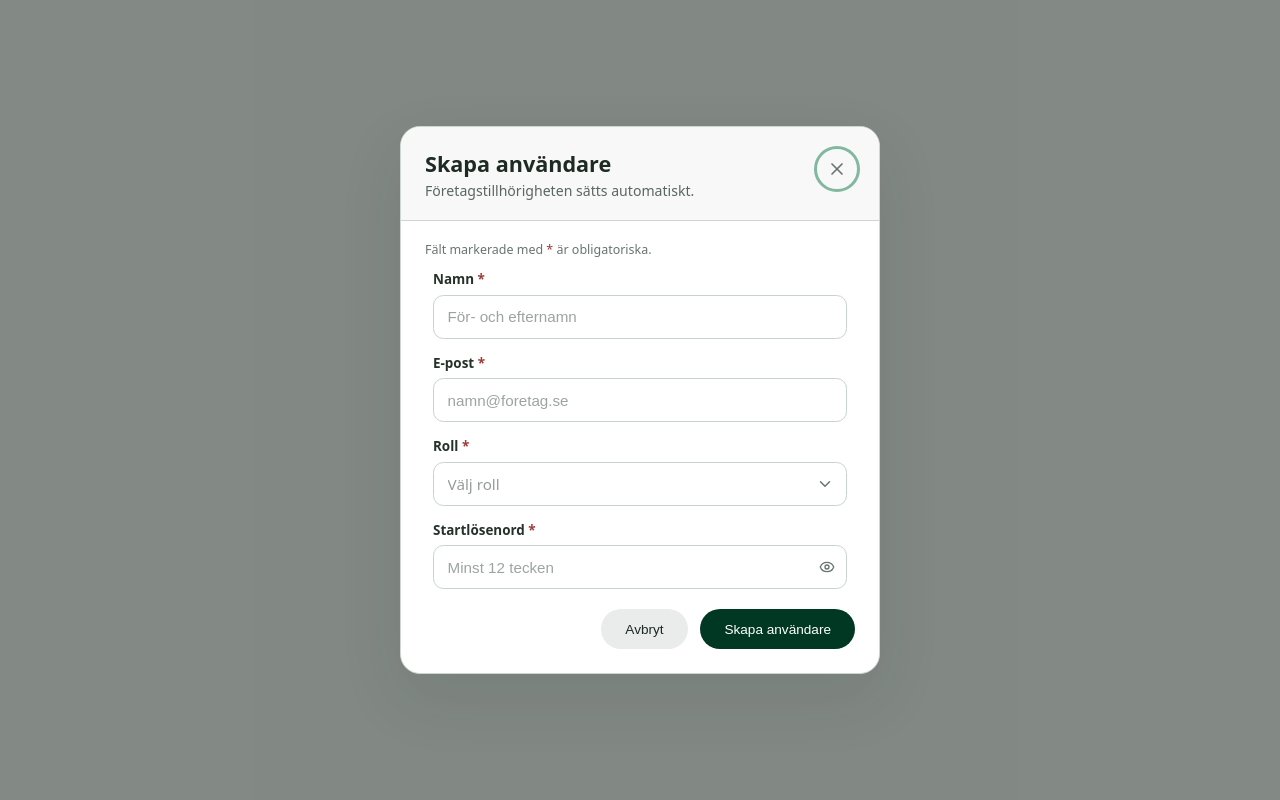
Test: CreateUserModal › shows the backend error for a duplicate email at the email field
The image size is (1280, 800).
Type "Kalle Kula" into the field labelled "Namn *" at coordinates (640, 317), box [433,295,847,339]
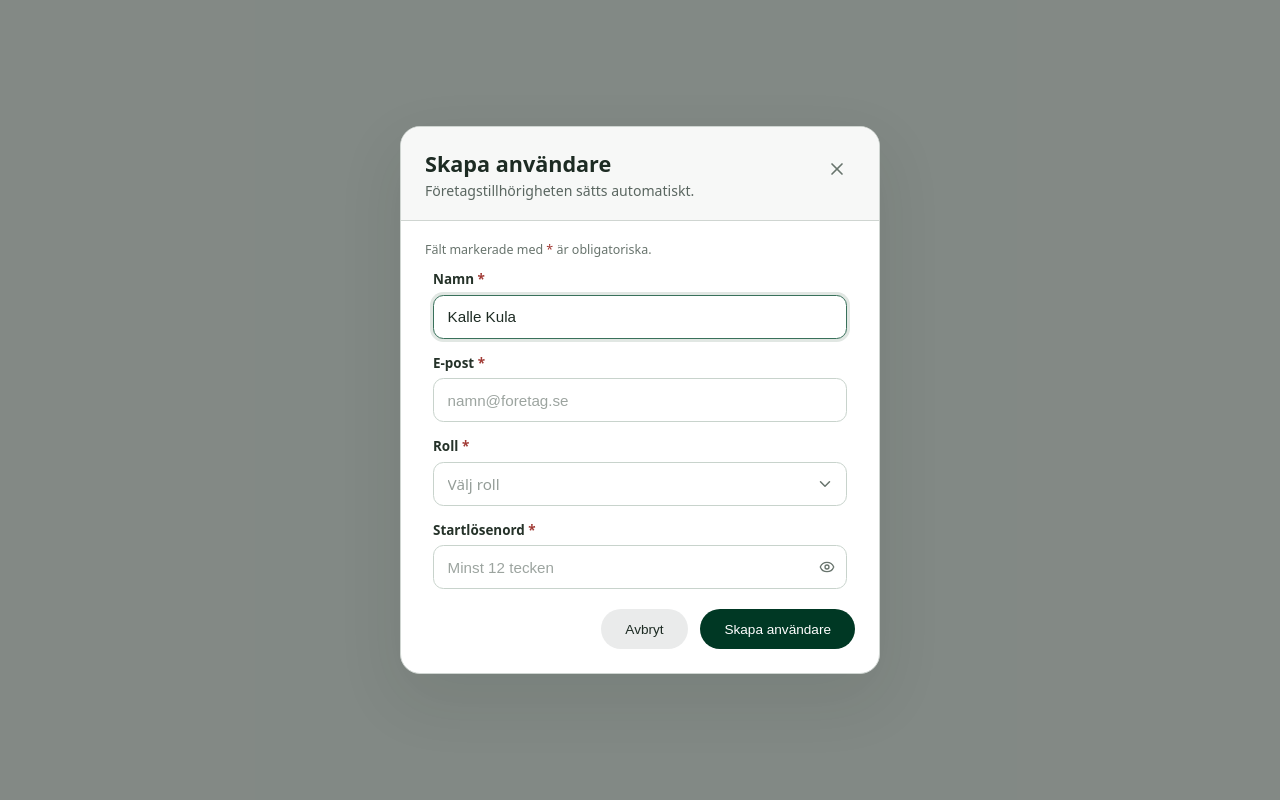
Type "kalle@foretag.se" into the field labelled "E-post *" at coordinates (640, 400), box [433,378,847,422]
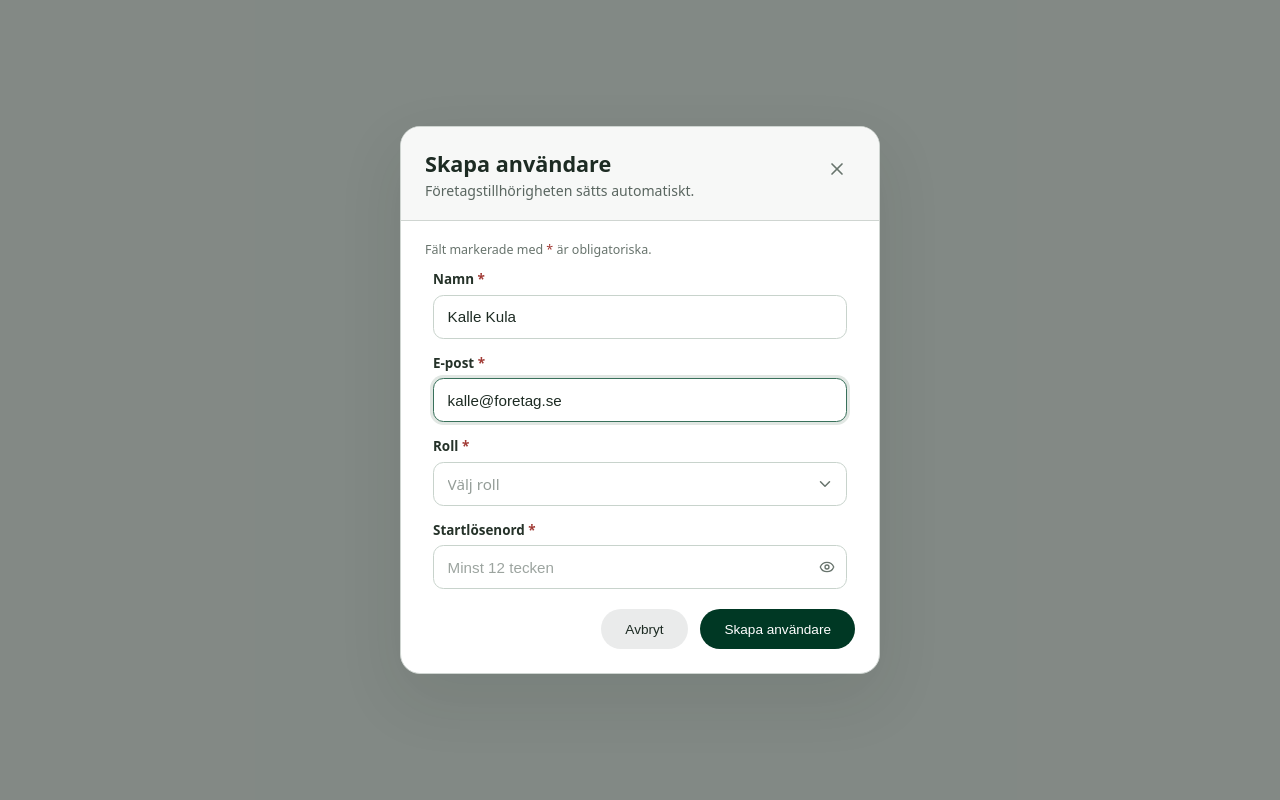
Click the dropdown labelled "Välj roll" at coordinates (474, 484), box [433,462,847,506]
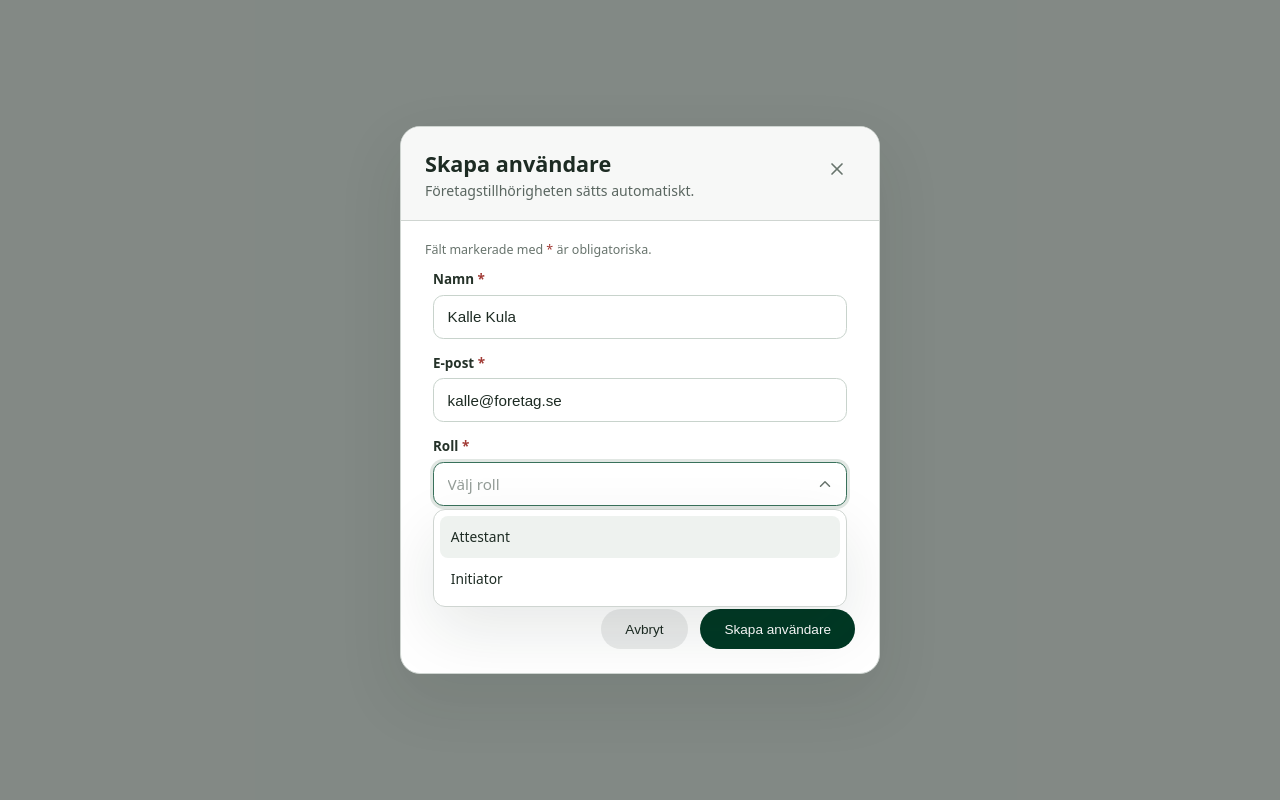
Click the option "Initiator" at coordinates (477, 578), box [451,569,503,588]
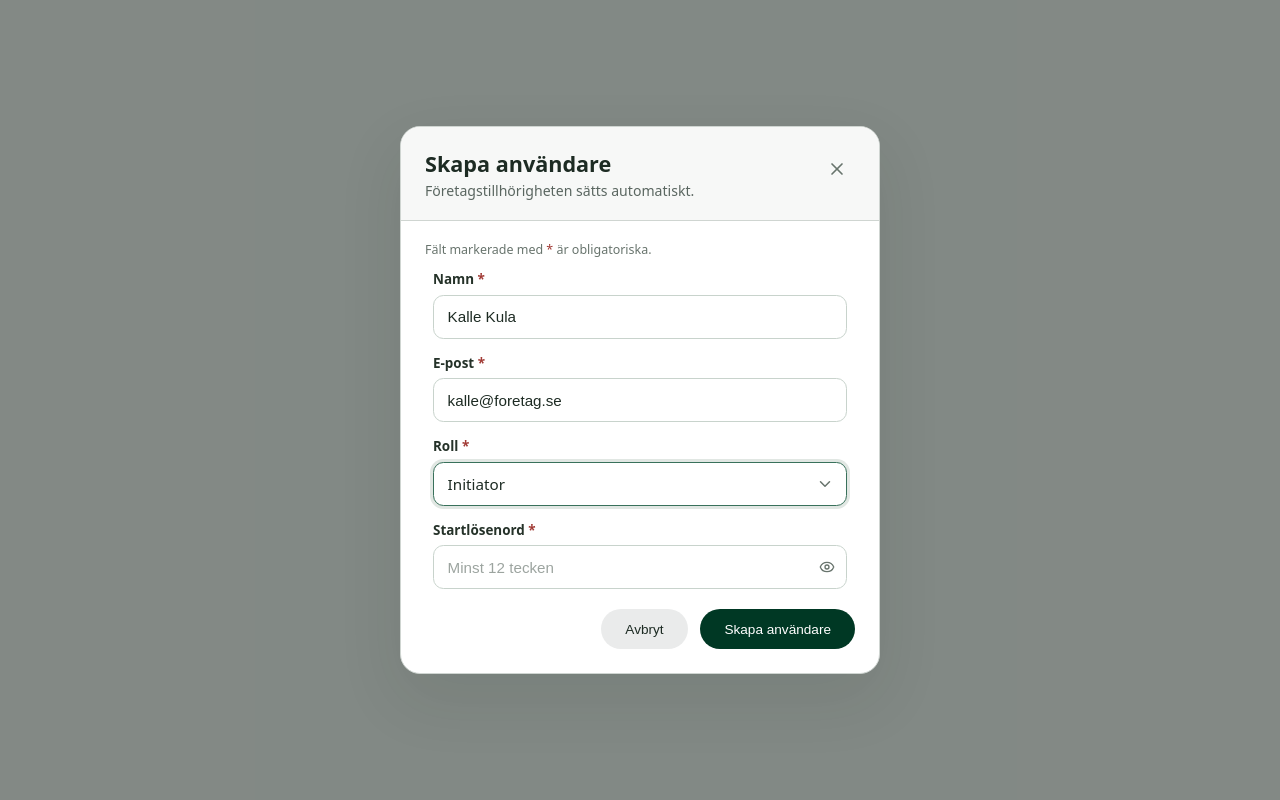
Type "hemligt-lösen-123" into the password field labelled "Startlösenord *" at coordinates (640, 567), box [433,545,847,589]
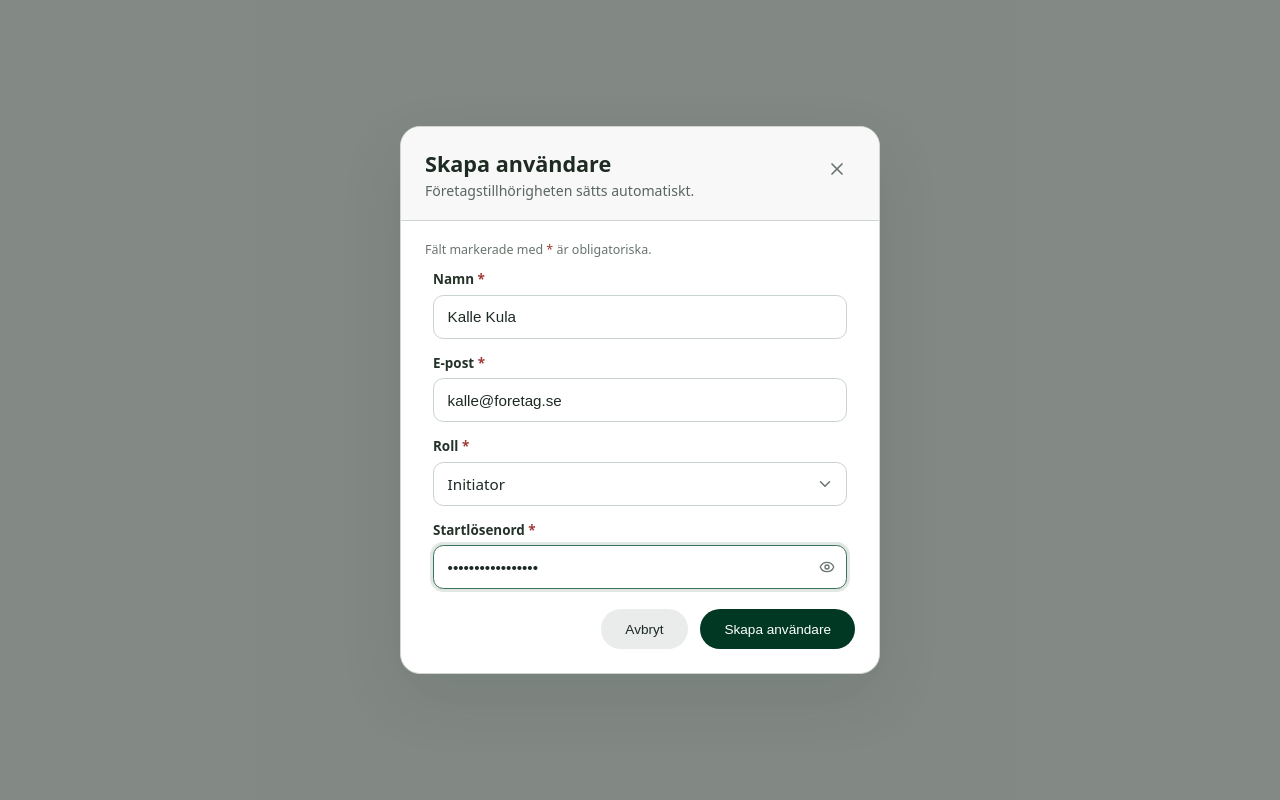
Click the button "Skapa användare" at coordinates (778, 629), box [700,609,855,649]
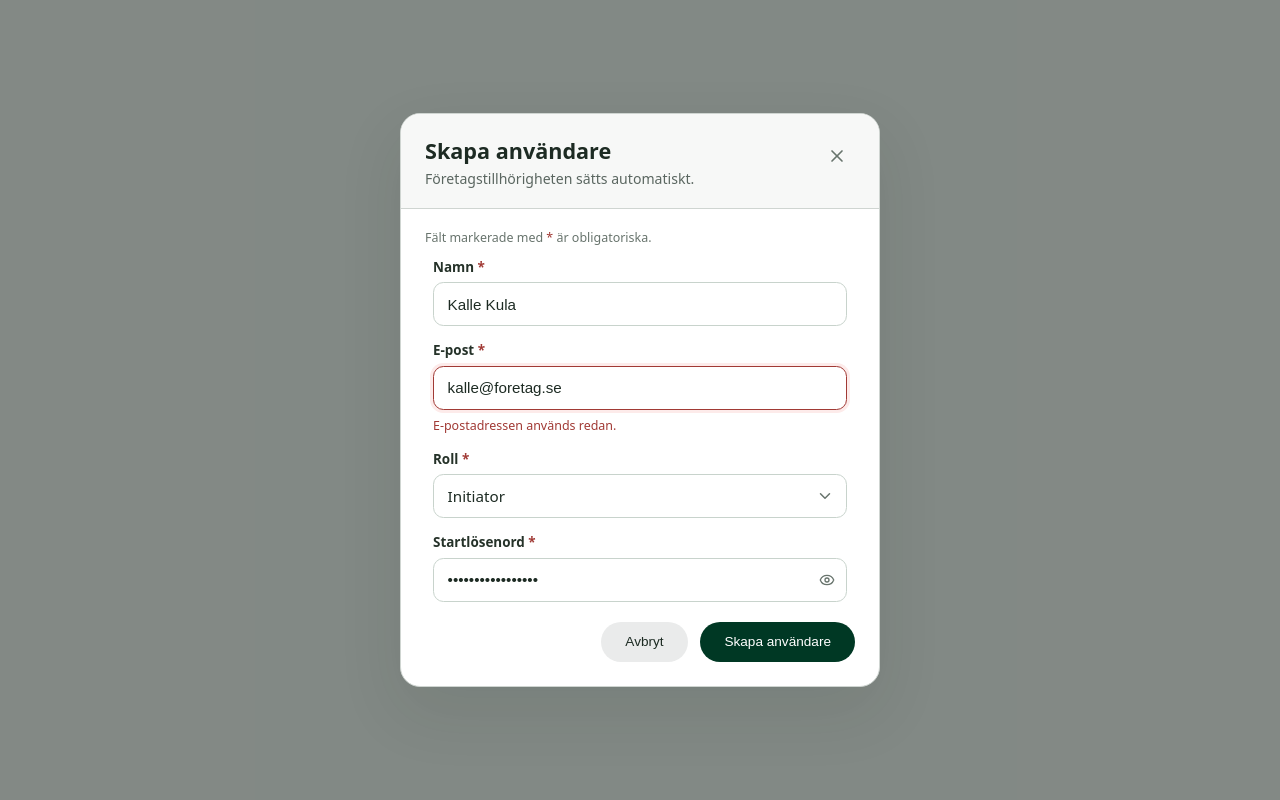
Result: the text "E-postadressen används redan." is shown at [433,417,616,434]
